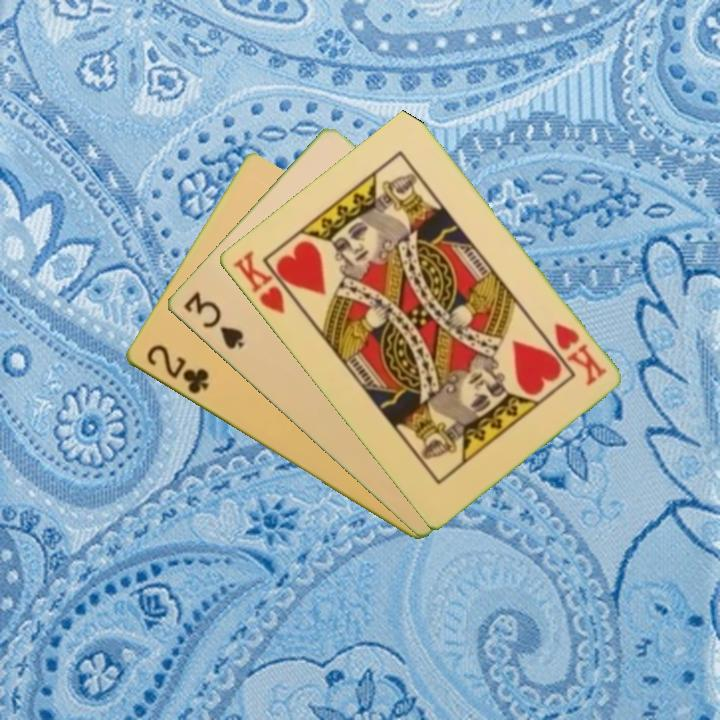2c: (142, 341, 212, 398)
3s: (179, 288, 247, 353)
Kh: (229, 246, 302, 318), (549, 319, 609, 389)
